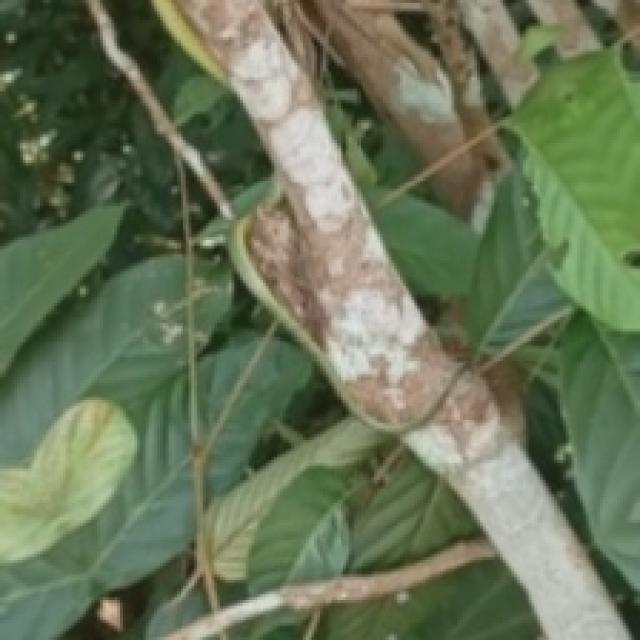paradise tree snake: (160, 0, 629, 637)
